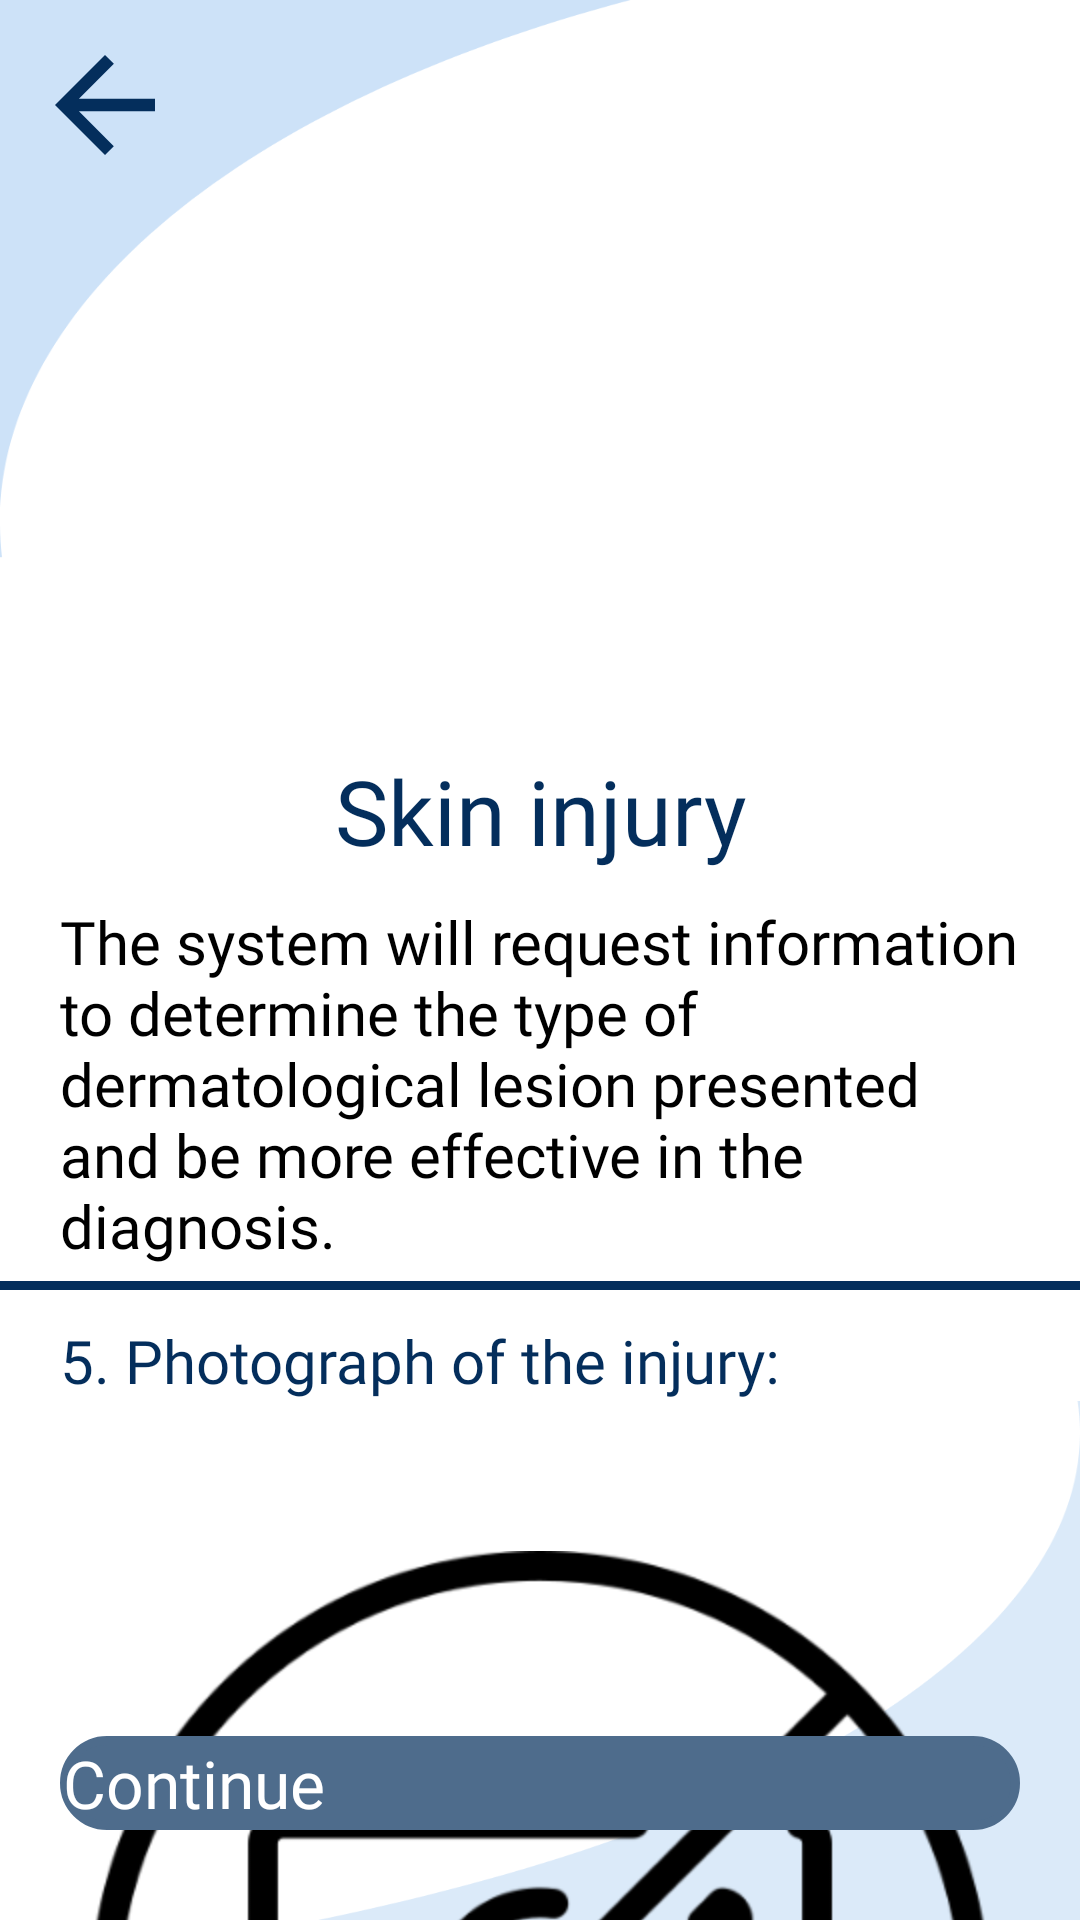

Where icons sit on this 1080 x 1920 app screen, as (x1, y1, x2, y2):
Back icon: (55, 55, 155, 155)
